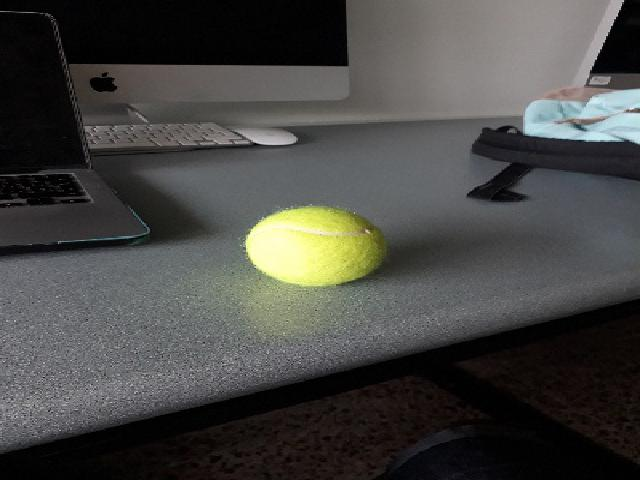Ball: (242, 206, 386, 284)
